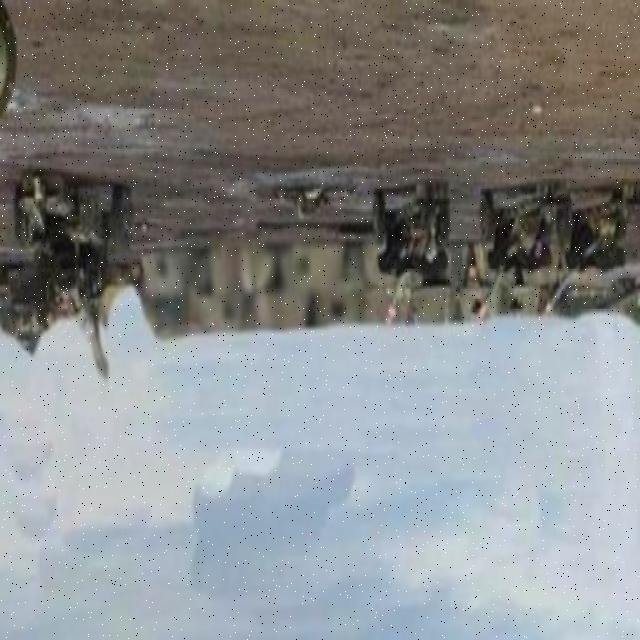ART: (13, 168, 145, 384), (467, 176, 575, 320), (368, 174, 454, 336), (543, 189, 635, 318)
